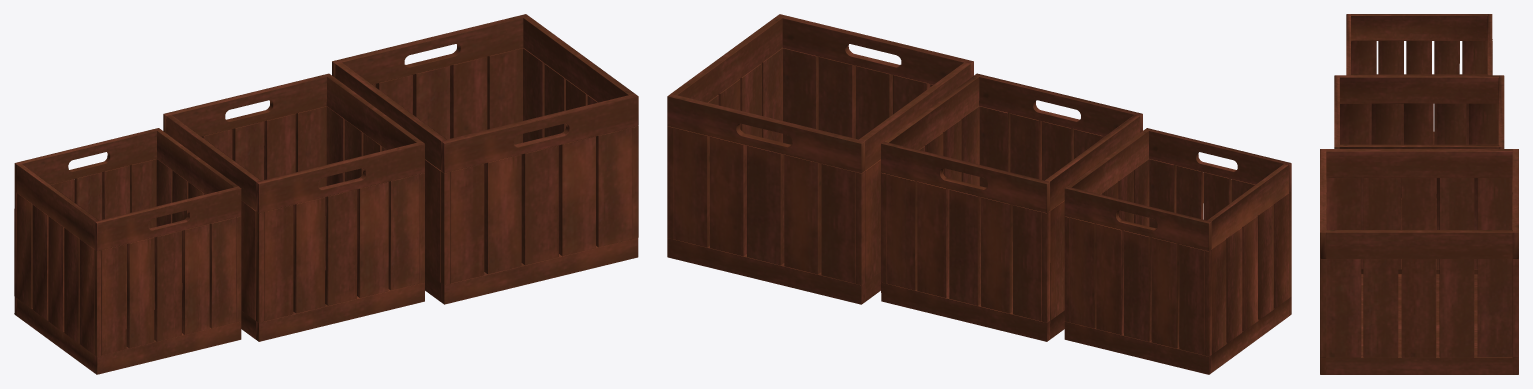
3 views of the same model, side by side, from view 1: azimuth 30°, elevation 25°; view 2: azimuth 150°, elevation 25°; view 3: azimuth 270°, elevation 25° (orthographic). The views are drawn at different scales.
Visible parts, largest first — view 1: visual_RootNode; view 2: visual_RootNode; view 3: visual_RootNode.
Boxes of the visible parts, x1,y1,x2,y2 form: visual_RootNode: [14, 14, 638, 374]; visual_RootNode: [667, 14, 1291, 374]; visual_RootNode: [1320, 14, 1518, 374].
Size of the model in its own units: 1.06 by 0.3936 by 0.3112.
1 material, 1 textured.
